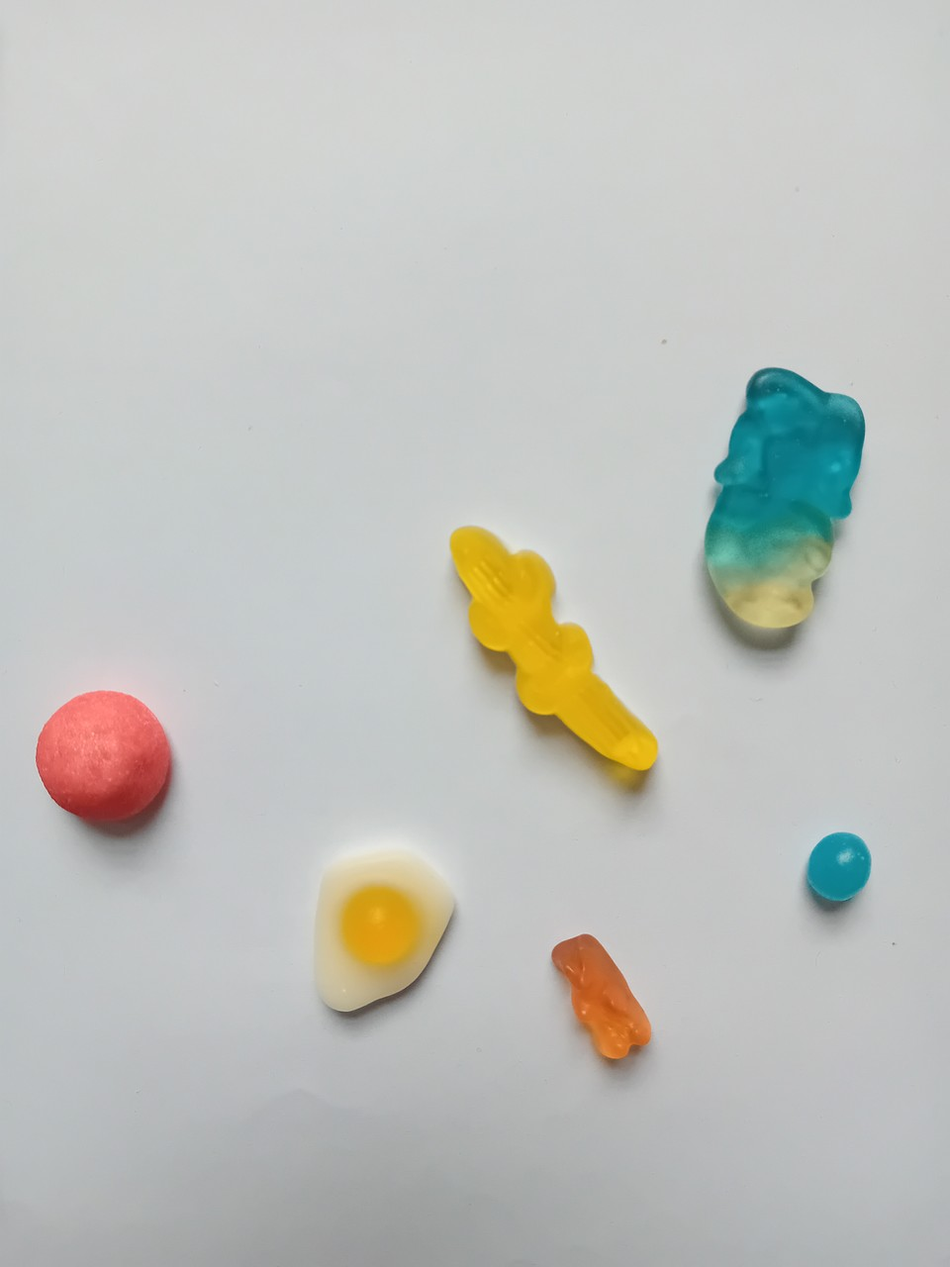crocodile_jaune: (446, 526, 668, 781)
dragibus_bleu: (795, 828, 874, 905)
oeuf_oeuf: (304, 840, 462, 1026)
ourson_orangeClair: (542, 929, 659, 1067)
schtroumpf_bleu-blanc: (695, 364, 871, 635)
tagada_fraise: (23, 686, 178, 830)
